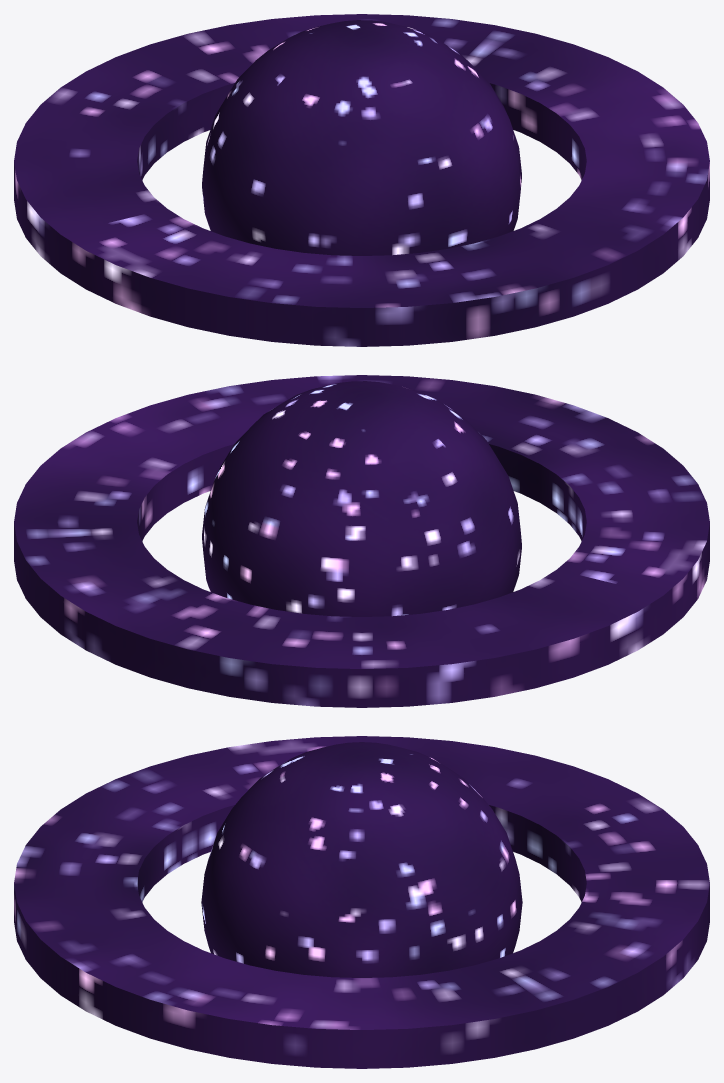
The model's file is item-6-6.glb.
3 views of the same model, one above another, from view 1: azimuth 30°, elevation 25°; view 2: azimuth 150°, elevation 25°; view 3: azimuth 270°, elevation 25° (orthographic).
Visible parts, largest first — view 1: plat, planet; view 2: plat, planet; view 3: plat, planet.
Part boxes in pixels (left/top/right/bottom): plat: left=14, top=14, right=709, bottom=346; planet: left=202, top=20, right=521, bottom=255; plat: left=14, top=375, right=709, bottom=707; planet: left=202, top=381, right=521, bottom=616; plat: left=14, top=736, right=709, bottom=1068; planet: left=201, top=742, right=522, bottom=977.
Bounding box in the file's own units: 1.3 × 0.6 × 1.3.
2 materials, 2 textured.
